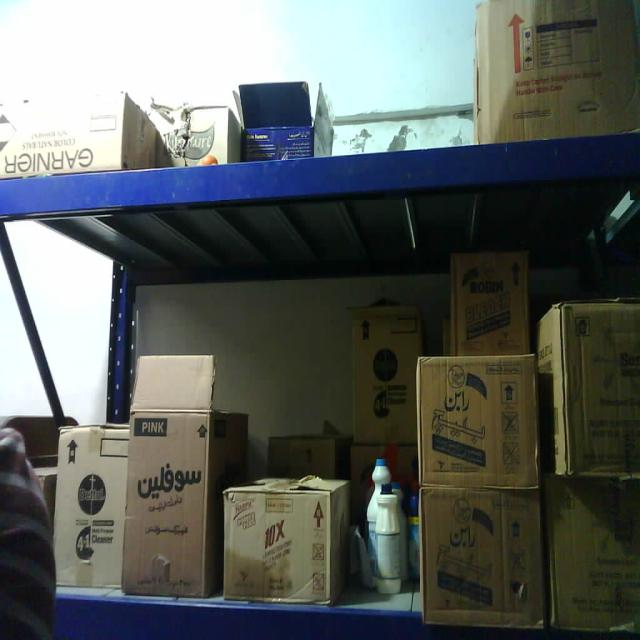box: (473, 0, 640, 148), (130, 352, 210, 599), (417, 481, 548, 631), (415, 352, 542, 494), (545, 478, 640, 637), (556, 298, 640, 476), (221, 485, 332, 604), (56, 423, 125, 592), (349, 301, 421, 444), (448, 249, 531, 355)
